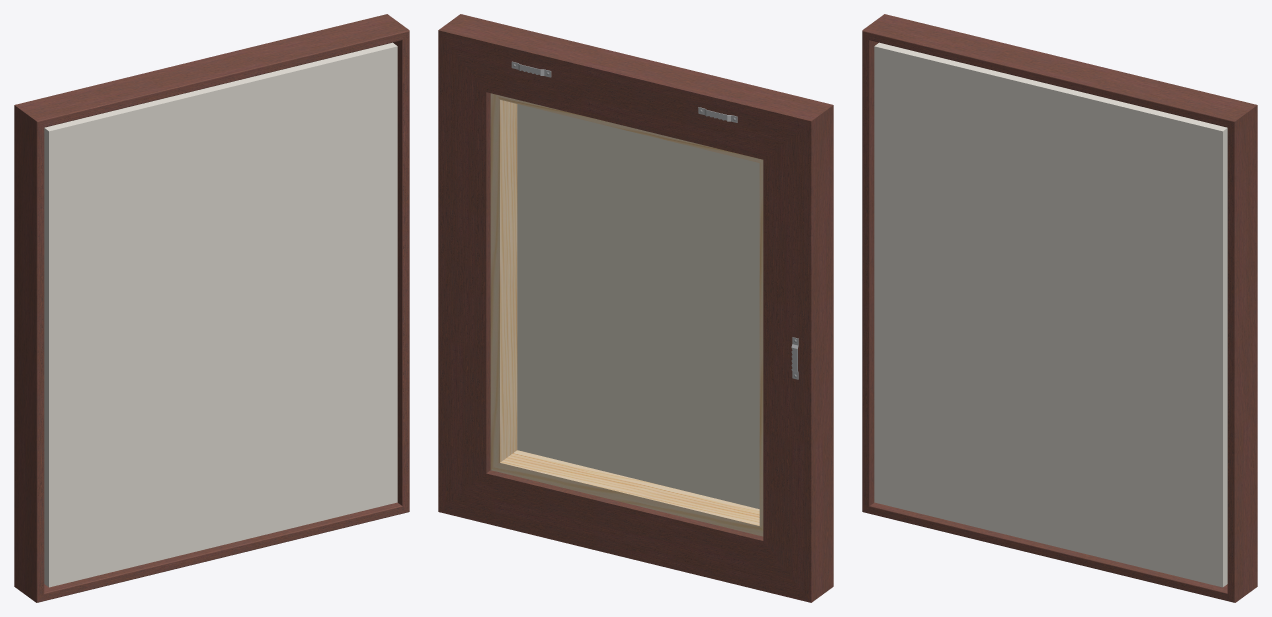
The model's file is decoded-from-delivery.glb.
3 renders of one model, left to right at view 1: azimuth 30°, elevation 25°; view 2: azimuth 150°, elevation 25°; view 3: azimuth 330°, elevation 25°, orthographic.
Parts seen in each view (by area): view 1: Canvas artwork front, Tray approved profile 0; view 2: Tray approved profile 0, Canvas linen reverse, Stretcher top, Sawtooth hanger 0; view 3: Canvas artwork front, Tray approved profile 0.
Boxes of the visible parts, bbox=[...] form: Canvas artwork front: bbox=[44, 42, 397, 587]; Tray approved profile 0: bbox=[14, 14, 409, 602]; Tray approved profile 0: bbox=[438, 14, 833, 602]; Canvas linen reverse: bbox=[517, 104, 759, 508]; Stretcher top: bbox=[490, 93, 763, 536]; Sawtooth hanger 0: bbox=[511, 61, 798, 379]; Canvas artwork front: bbox=[874, 42, 1227, 587]; Tray approved profile 0: bbox=[862, 14, 1257, 602].
Bounding box in the file's own units: 0.428 × 0.528 × 0.0474.
7 materials, 3 textured.
